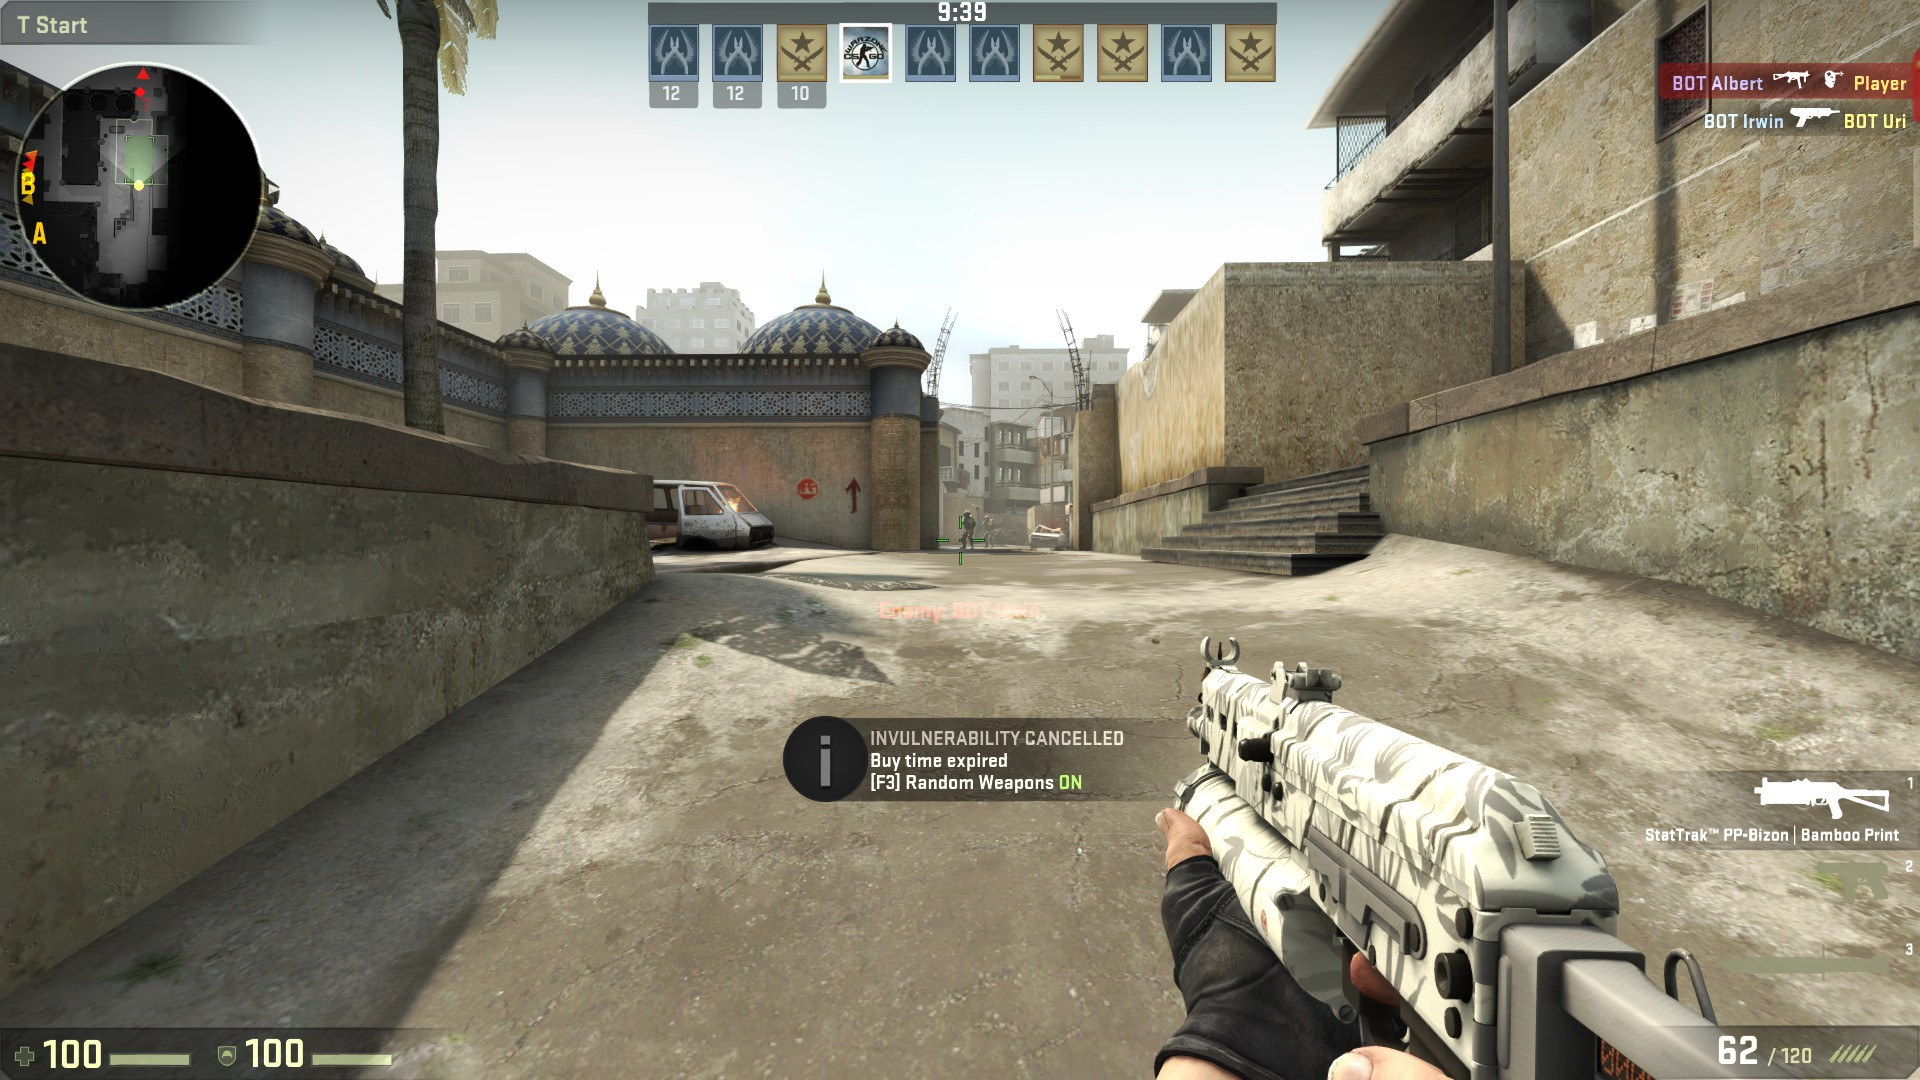c: (961, 510, 975, 550), (982, 514, 996, 549)
